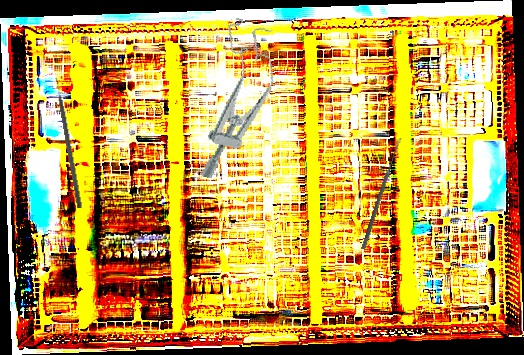Hook Surgical: (54, 77, 84, 209)
Speculum: (189, 16, 287, 188)
Surgical Spoon: (361, 137, 402, 250)
